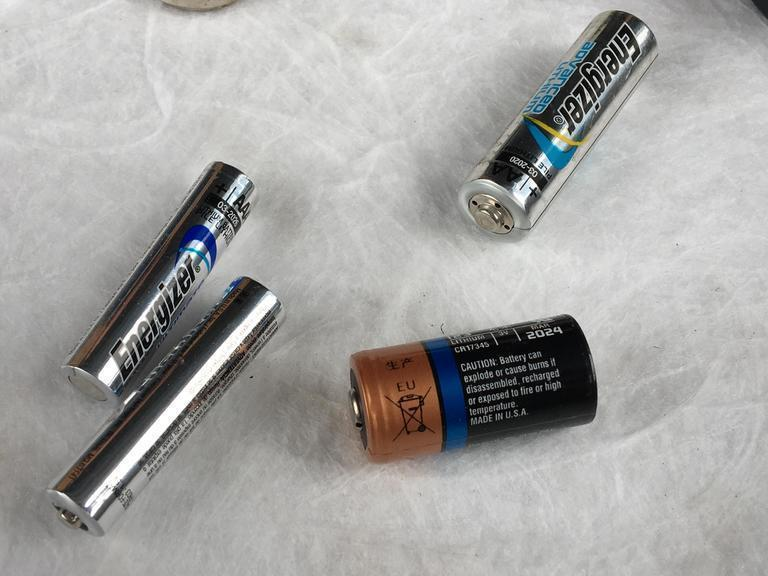AA: (456, 8, 664, 247)
AAA: (48, 270, 291, 541), (61, 160, 266, 409)
